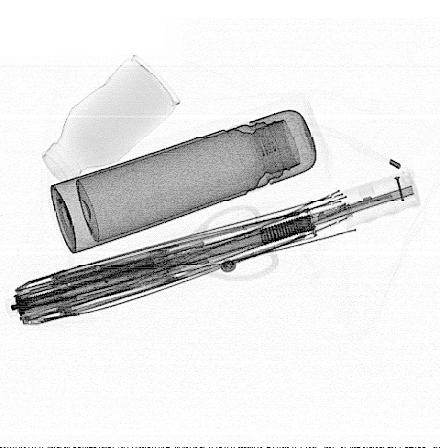Scissors: (98, 205, 280, 281)
